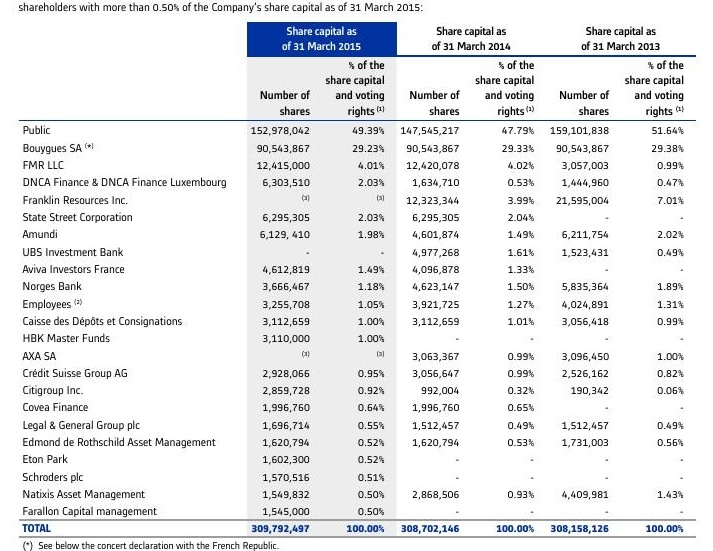table: (0, 0, 713, 551)
